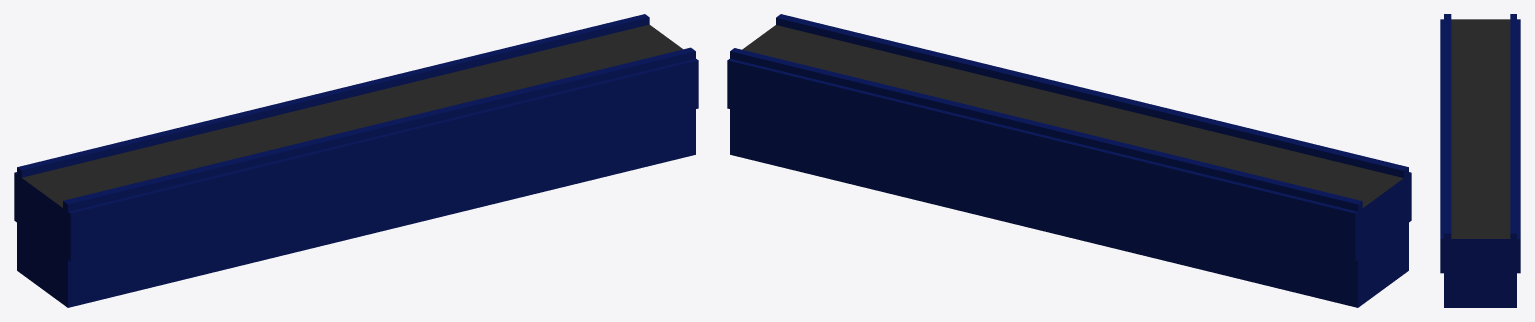
Rendered from conveyor_straight.glb.
The picture shows the model from 3 angles, left to right: view 1: azimuth 30°, elevation 25°; view 2: azimuth 150°, elevation 25°; view 3: azimuth 270°, elevation 25°; orthographic projection. The views are drawn at different scales.
Parts seen in each view (by area): view 1: Cube.002 (×2); view 2: Cube.002 (×2); view 3: Cube.002 (×2).
Part boxes in pixels (x1,y1,x2,y2): Cube.002 (×2): [14, 14, 698, 307]; Cube.002 (×2): [727, 14, 1411, 307]; Cube.002 (×2): [1440, 14, 1520, 307].
Size of the model in its own units: 2 by 0.3148 by 0.3091.
2 materials, 2 textured.
